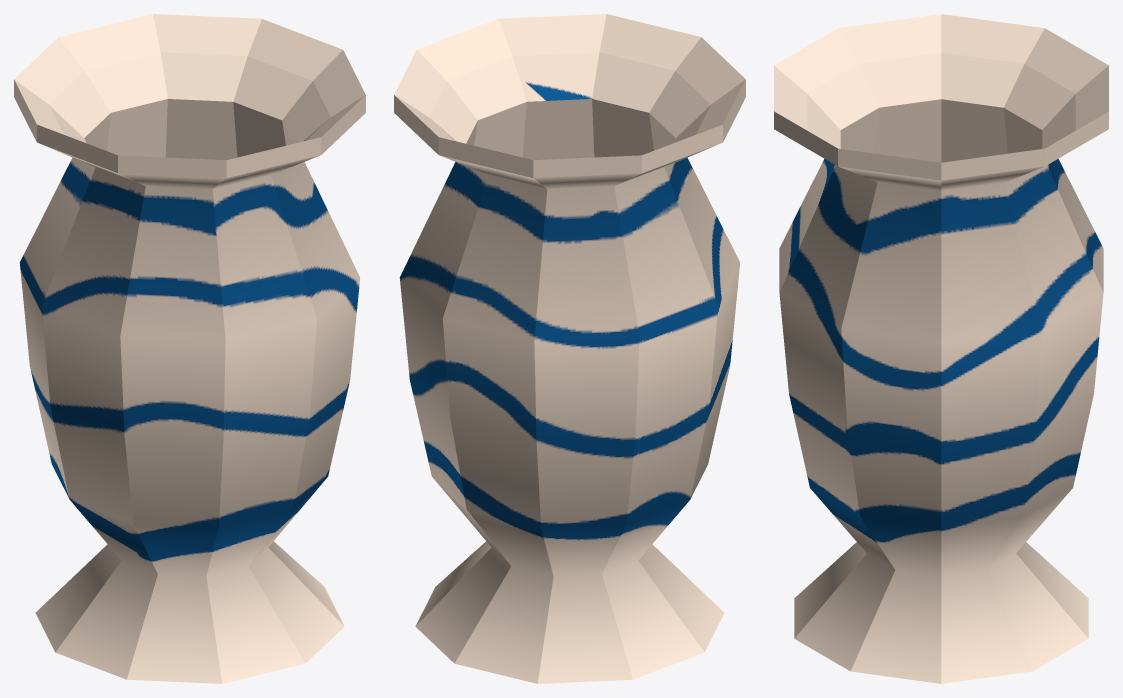
File: VaseOG (2).fbx
3 renders of one model, left to right at view 1: azimuth 30°, elevation 25°; view 2: azimuth 150°, elevation 25°; view 3: azimuth 270°, elevation 25°, orthographic.
Visible parts, largest first — view 1: pasted__pCylinder21; view 2: pasted__pCylinder21; view 3: pasted__pCylinder21.
Part boxes in pixels (x1,y1,x2,y2): pasted__pCylinder21: [14, 14, 365, 683]; pasted__pCylinder21: [394, 14, 745, 683]; pasted__pCylinder21: [774, 14, 1108, 683].
Bounding box in the file's own units: 16.96 × 28.19 × 16.13.
